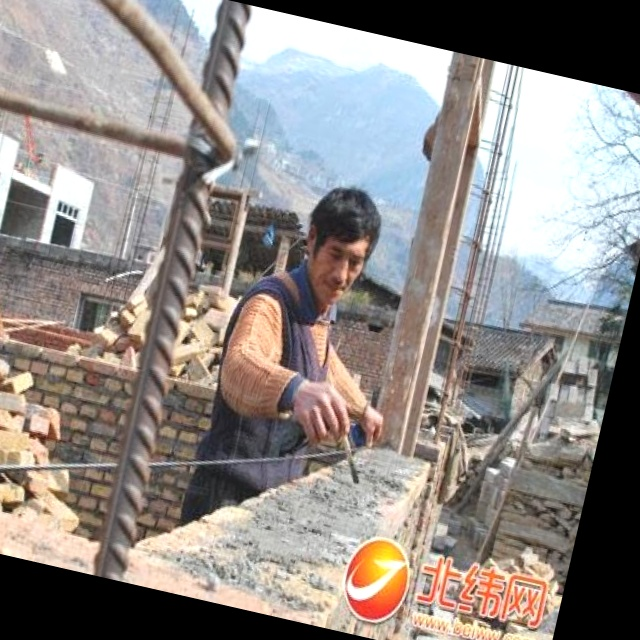Sin_Casco_Mascarrilla: (289, 170, 393, 312)
